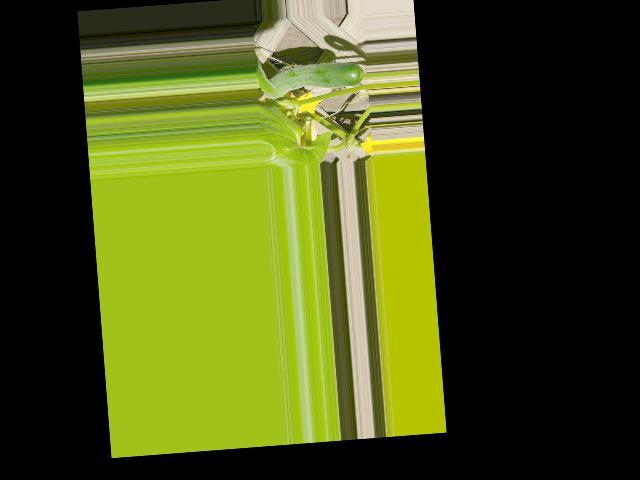cucumber: (255, 59, 363, 100)
